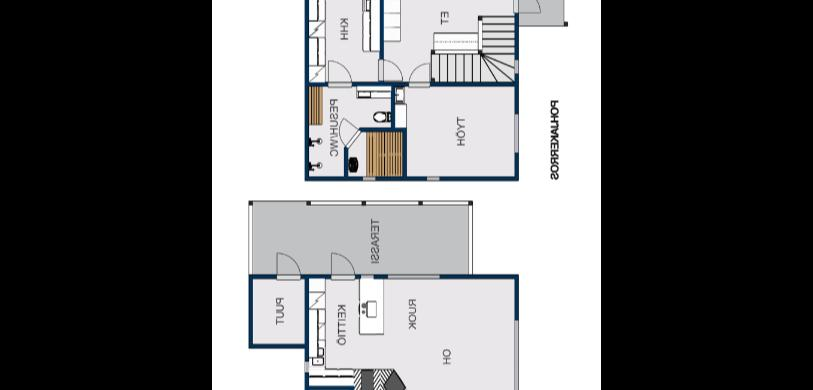door: (274, 250, 301, 282), (326, 58, 353, 90), (328, 250, 354, 281), (337, 113, 360, 148), (406, 60, 431, 88), (375, 58, 404, 82), (511, 0, 542, 15)
window: (509, 315, 521, 390), (385, 271, 443, 282), (512, 107, 521, 157), (424, 174, 443, 184), (512, 58, 520, 76), (302, 357, 310, 374), (360, 175, 378, 182)
